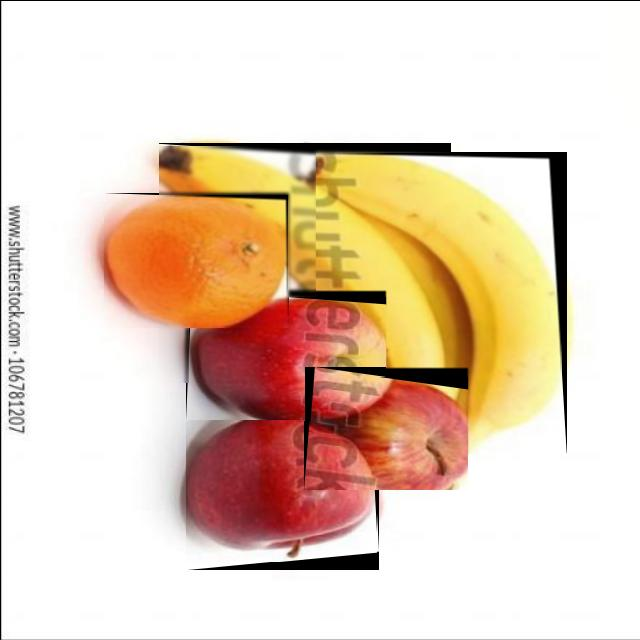Apple: (187, 420, 377, 561), (189, 296, 386, 420), (310, 376, 468, 488)
Banana: (316, 152, 562, 452), (159, 145, 450, 382)
Orange: (105, 194, 288, 327)
